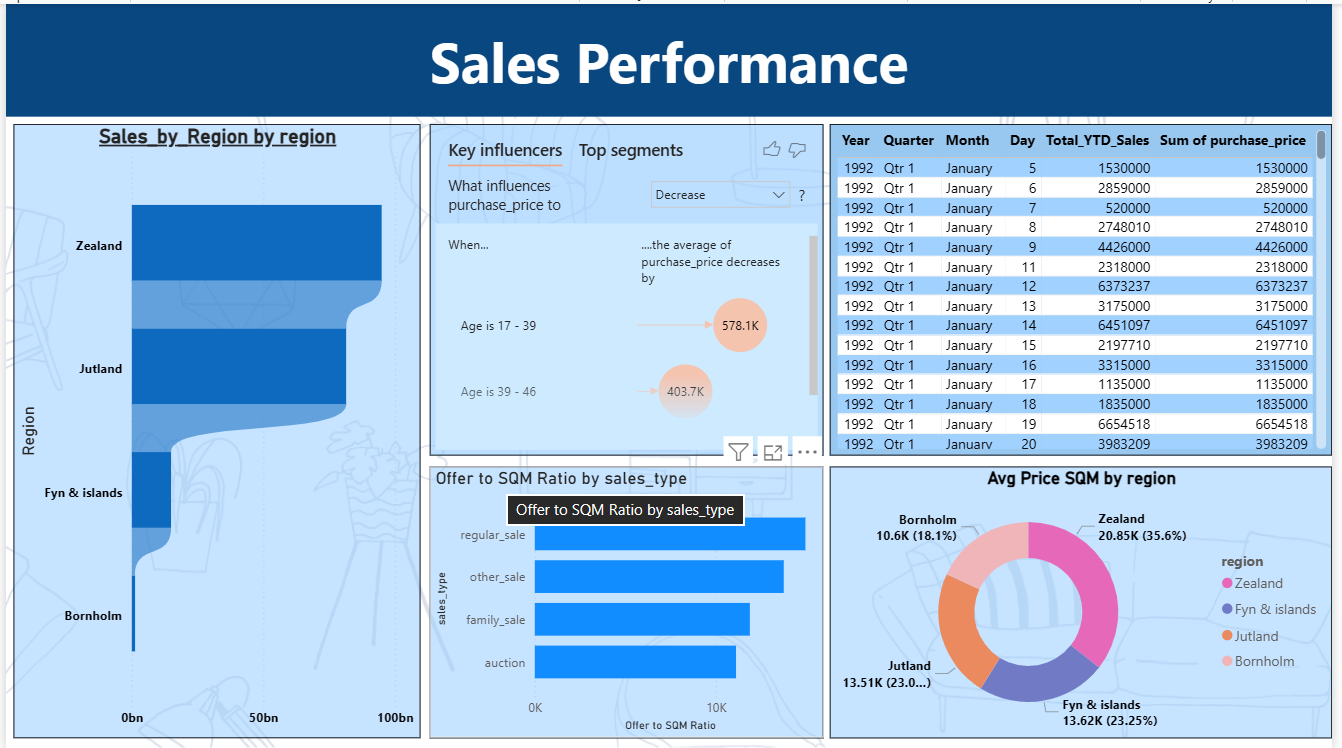

Layout of this report page (visuals, bound fields, positions):
{"tool":"powerbi","page":{"name":"Sales_Perfprmance","canvas":[1280,720],"ordinal":1},"visuals":[{"type":"shape","box":[0,0,1280,108.8],"z":0},{"type":"barChart","fields":{"Y":["measures_table.Sales_by_Region"],"Category":["Housing Data.region"]},"box":[7.5,116.2,392.5,592.5],"z":1000},{"type":"tableEx","fields":{"Values":["Housing Data.date.Variation.Date Hierarchy.Year","Housing Data.date.Variation.Date Hierarchy.Quarter","Housing Data.date.Variation.Date Hierarchy.Month","Housing Data.date.Variation.Date Hierarchy.Day","measures_table.Total_YTD_Sales","Sum(Housing Data.purchase_price)"]},"box":[795,116.2,485,320],"z":2000},{"type":"donutChart","fields":{"Y":["measures_table.Avg Price SQM"],"Category":["Housing Data.region"]},"box":[795,446.2,485,262.5],"z":3000},{"type":"keyDriversVisual","fields":{"Target":["Housing Data.purchase_price"],"ExplainBy":["Housing Data.Age"]},"box":[408.8,116.2,380,320],"z":4000},{"type":"barChart","fields":{"Y":["measures_table.Offer to SQM Ratio"],"Category":["Housing Data.sales_type"]},"box":[408.8,446.2,380,262.5],"z":5000}]}

Visuals, with their boxes in screenshot pixels (x1, y1, x2, y2), scaled from the page's 1280x720 canvas onto the 1342x748 screenshot:
shape: 0, 0, 1341, 113
barChart - measures_table.Sales_by_Region x Housing Data.region: 8, 121, 419, 736
tableEx - Housing Data.date.Variation.Date Hierarchy.Year x Housing Data.date.Variation.Date Hierarchy.Quarter: 834, 121, 1341, 453
donutChart - measures_table.Avg Price SQM x Housing Data.region: 834, 464, 1341, 736
keyDriversVisual - Housing Data.purchase_price x Housing Data.Age: 429, 121, 827, 453
barChart - measures_table.Offer to SQM Ratio x Housing Data.sales_type: 429, 464, 827, 736
